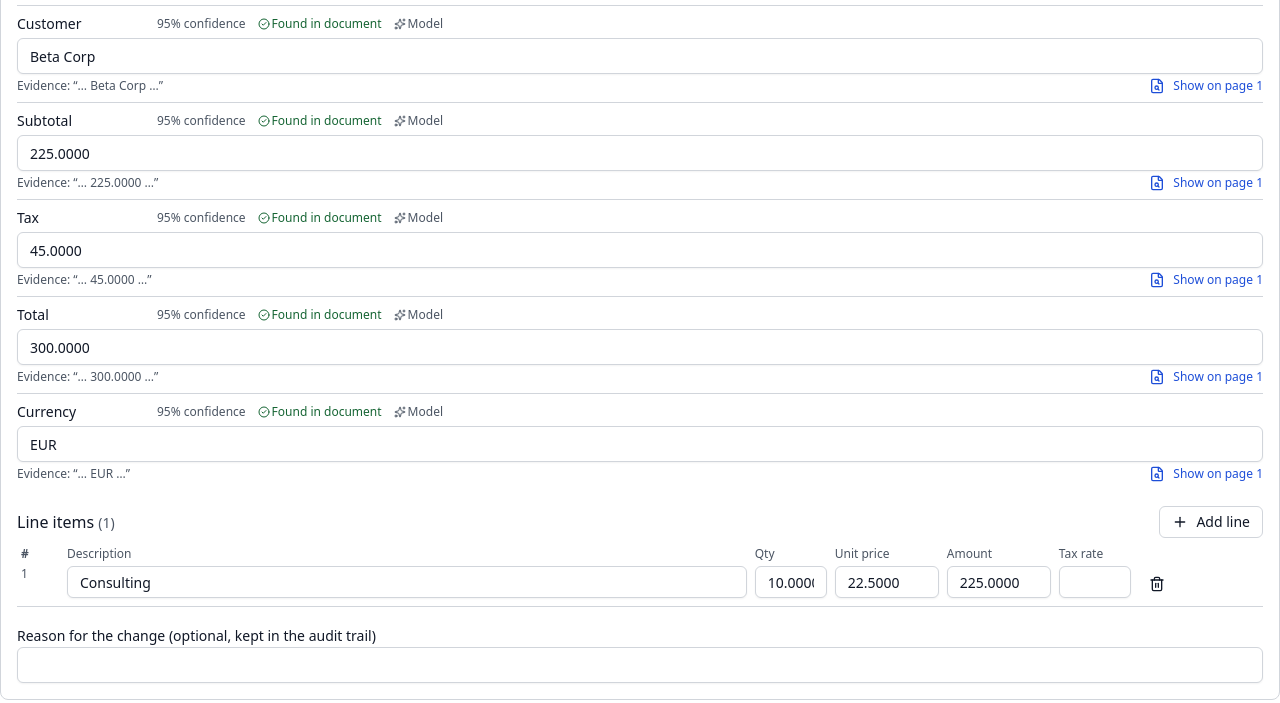
it: fields form › client-side validation blocks a malformed amount before any request
(page scrolled)
Step 1. Replace the text in the field labelled "Total" with "12,50" → coordinates (640, 347), box [17,329,1263,365]
(page scrolled)
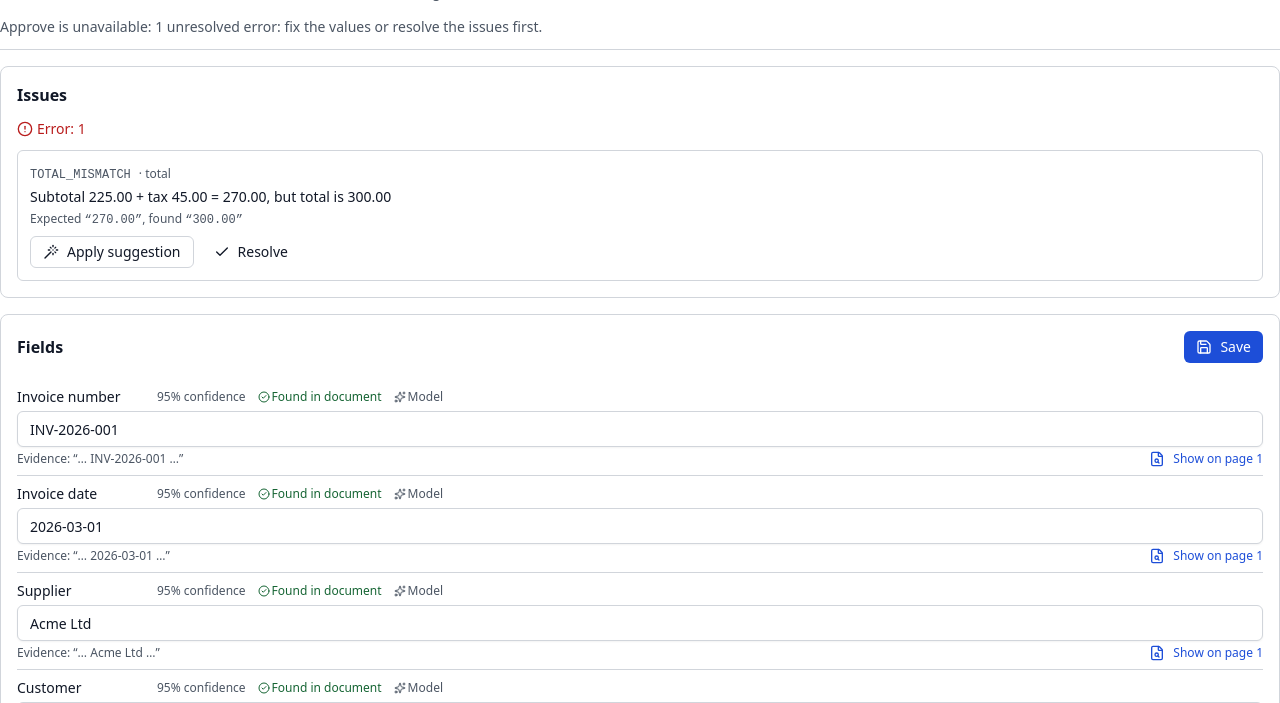
Step 2. Click the button "Save" → coordinates (1224, 347), box [1184,331,1263,363]
(page scrolled)
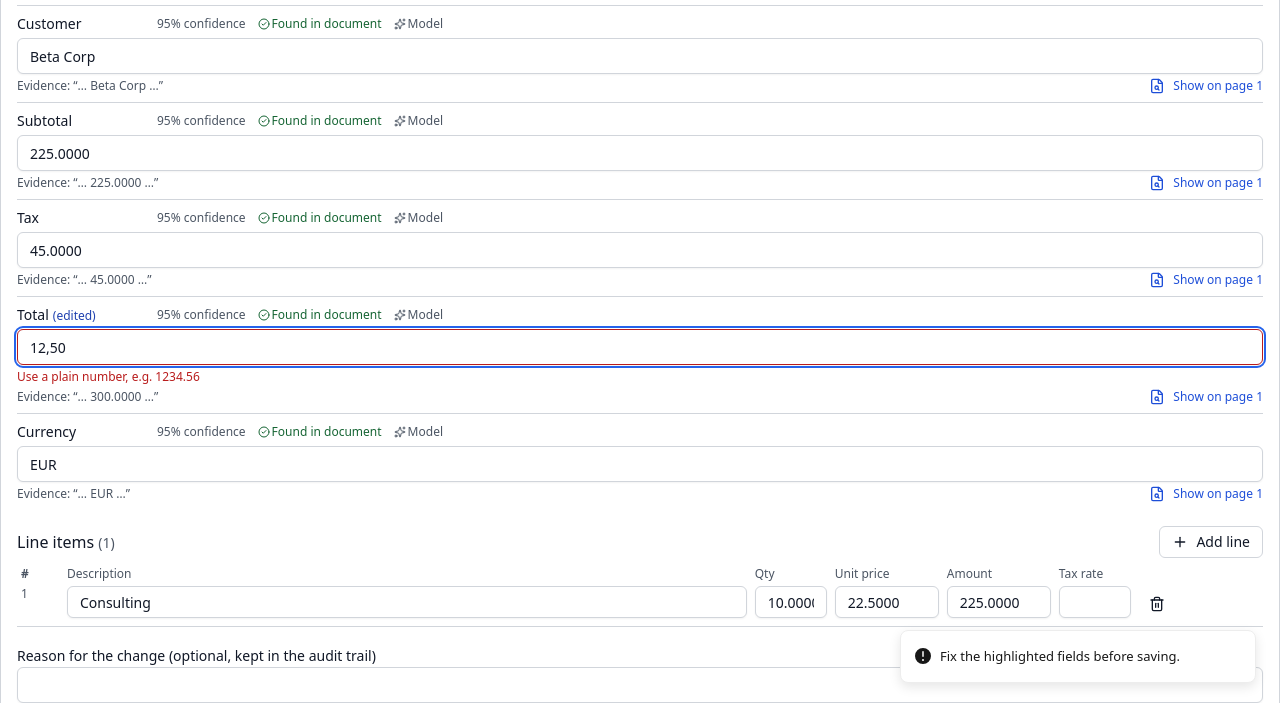
Now the text "Use a plain number, e.g. 1234.56" is shown, box [17,368,200,385]
